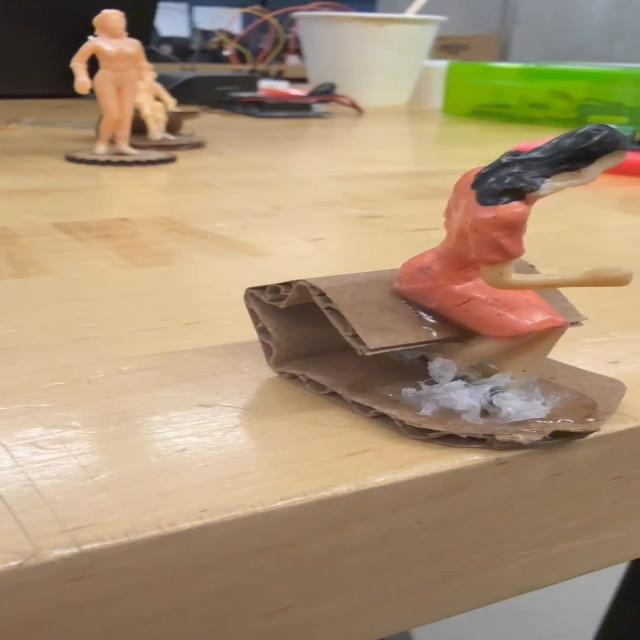Authorized: (256, 127, 640, 444)
